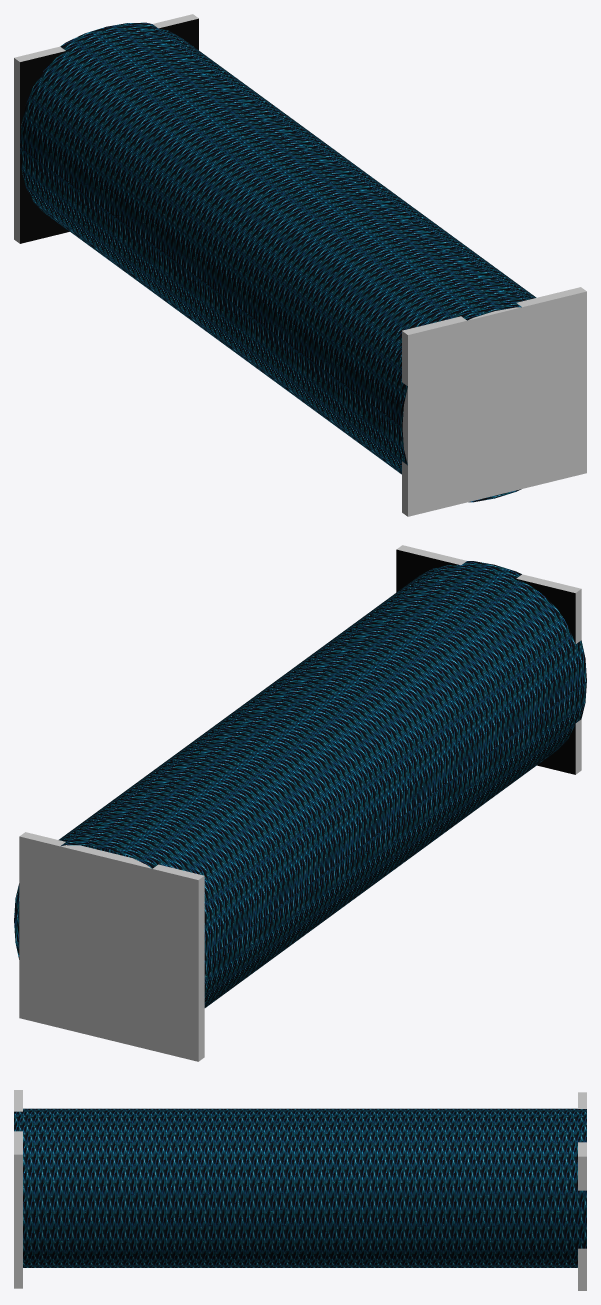
File: teleporter-tunnel.obj
3 views of the same model, one above another, from view 1: azimuth 30°, elevation 25°; view 2: azimuth 150°, elevation 25°; view 3: azimuth 270°, elevation 25° (orthographic). The views are drawn at different scales.
Parts seen in each view (by area): view 1: entity0_patch0, entity0_brush1, entity0_brush2; view 2: entity0_patch0, entity0_brush2, entity0_brush1; view 3: entity0_patch0, entity0_brush1, entity0_brush2.
Boxes of the visible parts, left/top/right/bottom form: entity0_patch0: left=20, top=22, right=536, bottom=502; entity0_brush1: left=402, top=287, right=586, bottom=516; entity0_brush2: left=14, top=14, right=198, bottom=243; entity0_patch0: left=14, top=561, right=586, bottom=1007; entity0_brush2: left=19, top=832, right=204, bottom=1061; entity0_brush1: left=396, top=545, right=581, bottom=774; entity0_patch0: left=14, top=1108, right=586, bottom=1267; entity0_brush1: left=14, top=1090, right=22, bottom=1288; entity0_brush2: left=578, top=1092, right=586, bottom=1290.
Size of the model in its own units: 272 by 268 by 992.
